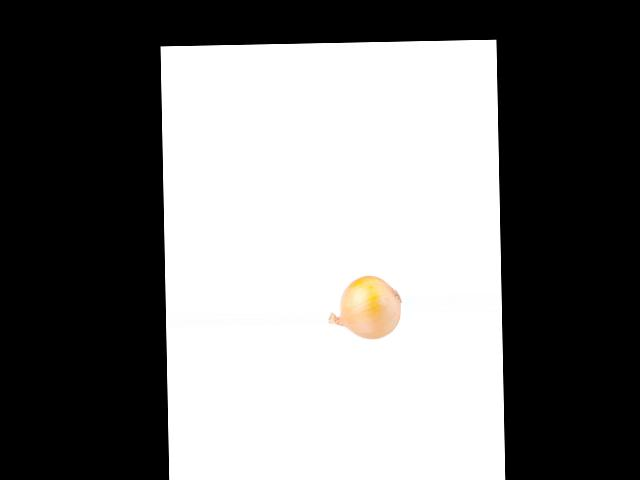onion: (336, 274, 400, 341)
